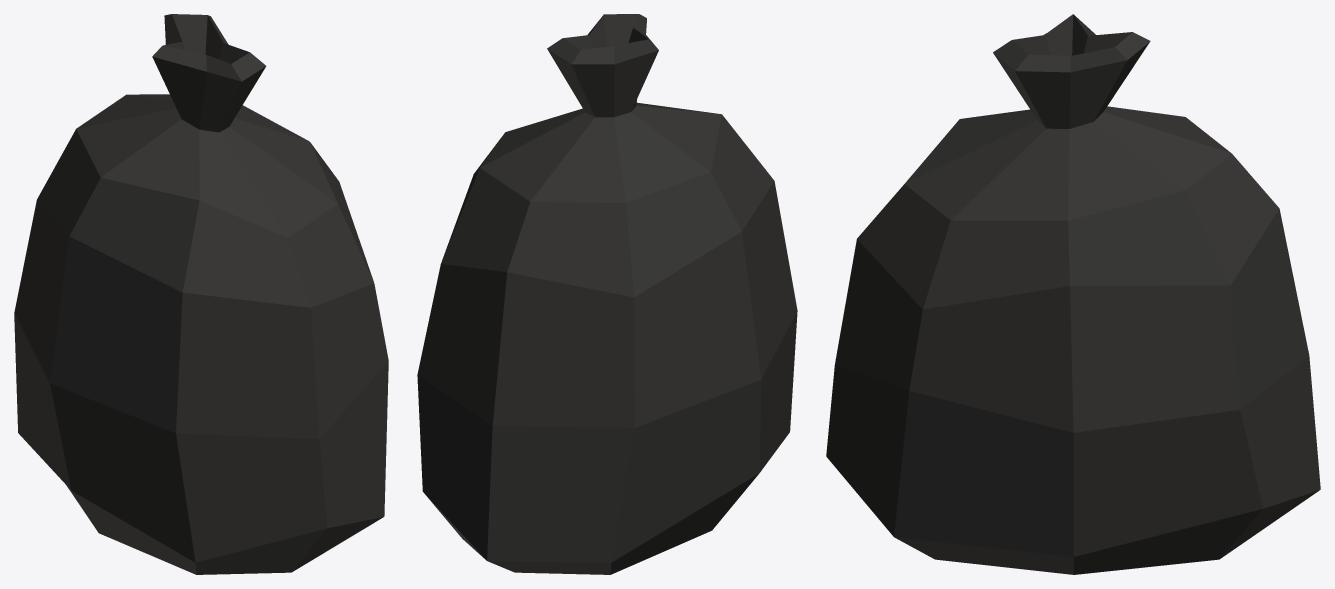
File: Trash_Bag_1.fbx
3 views of the same model, side by side, from view 1: azimuth 30°, elevation 25°; view 2: azimuth 150°, elevation 25°; view 3: azimuth 270°, elevation 25° (orthographic). The views are drawn at different scales.
Visible parts, largest first — view 1: Trash_Bag_1; view 2: Trash_Bag_1; view 3: Trash_Bag_1.
Boxes of the visible parts, x1,y1,x2,y2 form: Trash_Bag_1: [14, 14, 388, 574]; Trash_Bag_1: [417, 14, 797, 574]; Trash_Bag_1: [826, 14, 1320, 574].
Bounding box in the file's own units: 0.6115 × 0.9047 × 0.8291.
1 material, 1 textured.
